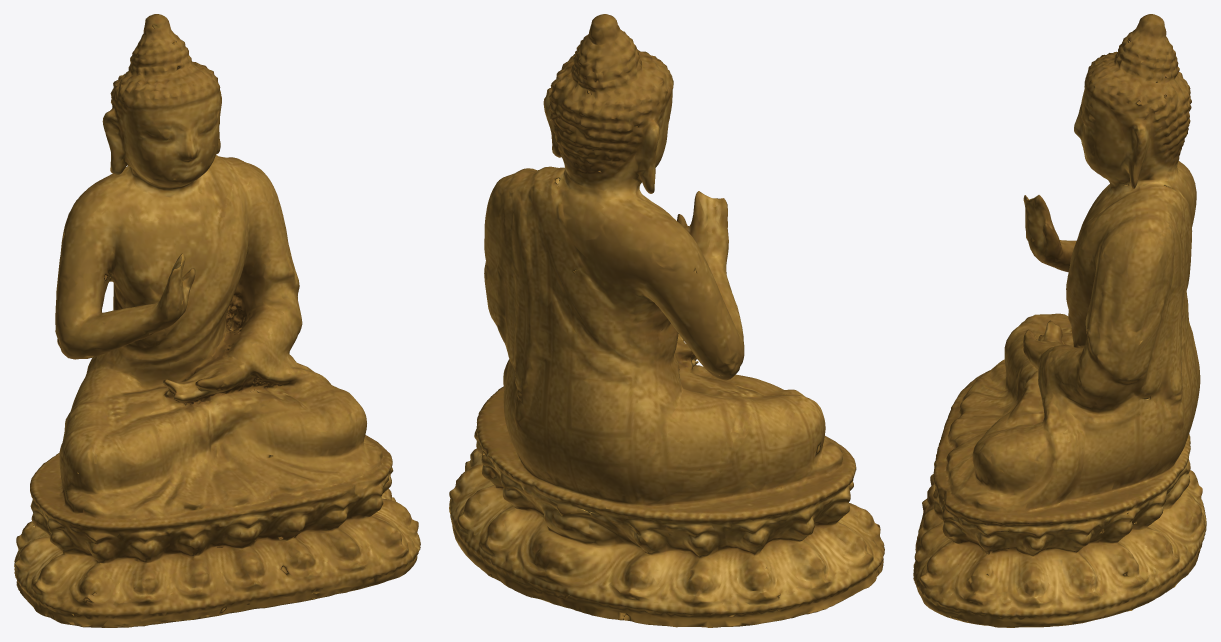
File: buddha.glb
3 views of the same model, side by side, from view 1: azimuth 30°, elevation 25°; view 2: azimuth 150°, elevation 25°; view 3: azimuth 270°, elevation 25° (orthographic). The views are drawn at different scales.
Visible parts, largest first — view 1: Object_3; view 2: Object_3; view 3: Object_3.
Boxes of the visible parts, x1=… form: Object_3: x1=14, y1=14, x2=420, y2=627; Object_3: x1=449, y1=14, x2=884, y2=627; Object_3: x1=913, y1=14, x2=1206, y2=627.
Size of the model in its own units: 0.145 by 0.1969 by 0.0994.
Materials: 1 (1 with a texture image).
